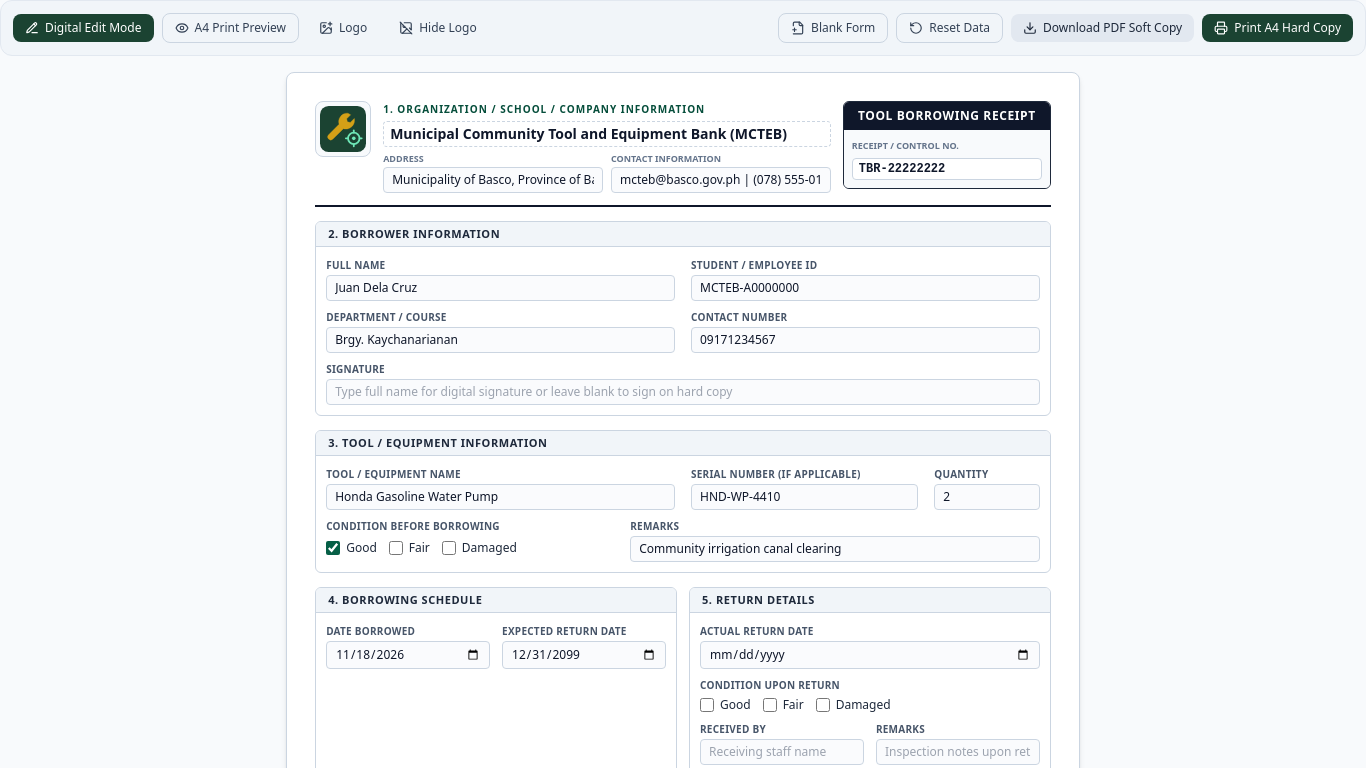
Test: ToolBorrowingReceiptForm › pre-populates from rental data and supports digital editing and blank form reset
Expected: the field labelled "Tool / Equipment Name" holds "Honda Gasoline Water Pump", [326, 484, 675, 510]
Expected: the field labelled "Serial Number (if applicable)" holds "HND-WP-4410", [691, 484, 918, 510]
Edit digitally
Replace the text in the field labelled "Full Name" with "Elena Mendoza" at (501, 288), box [326, 275, 675, 301]
(page scrolled)
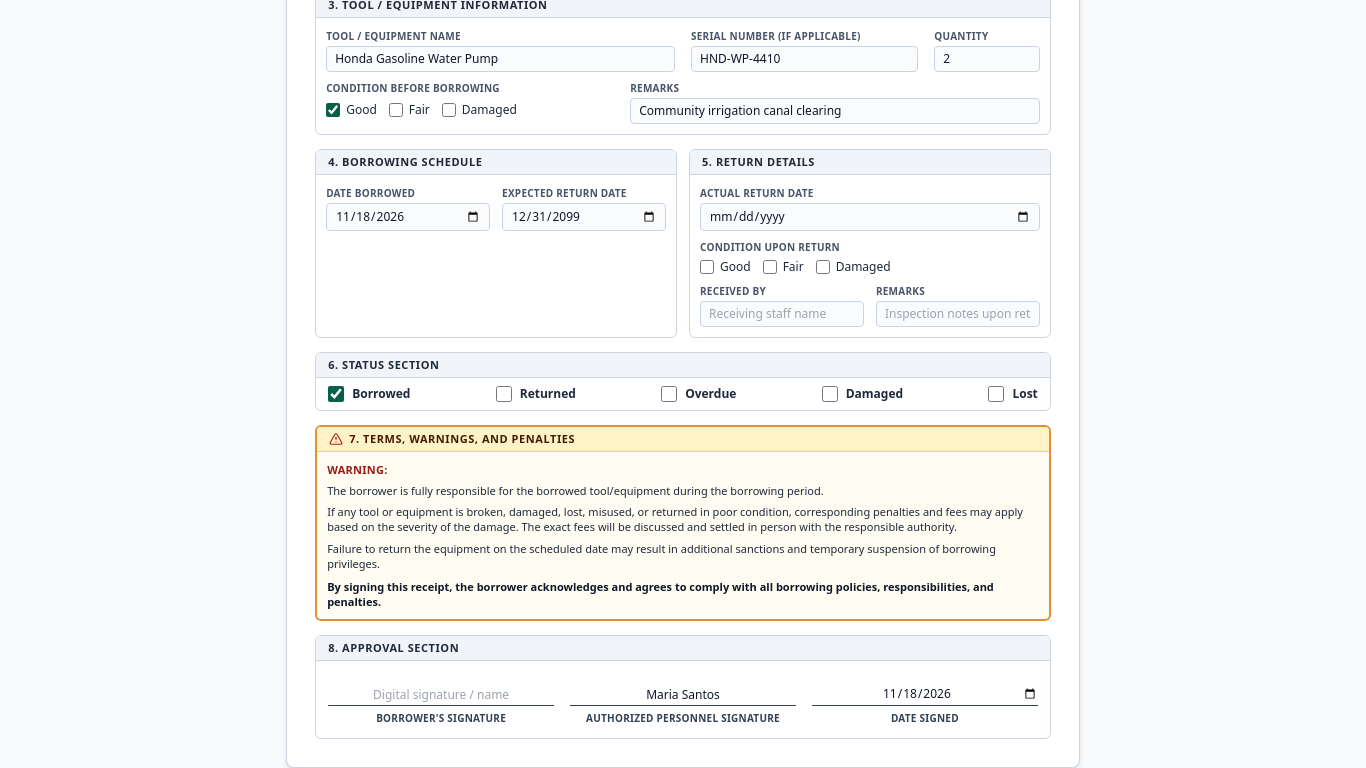
Toggle status checkbox
Click the checkbox labelled "Overdue" at (669, 394), box [661, 386, 677, 402]
(page scrolled)
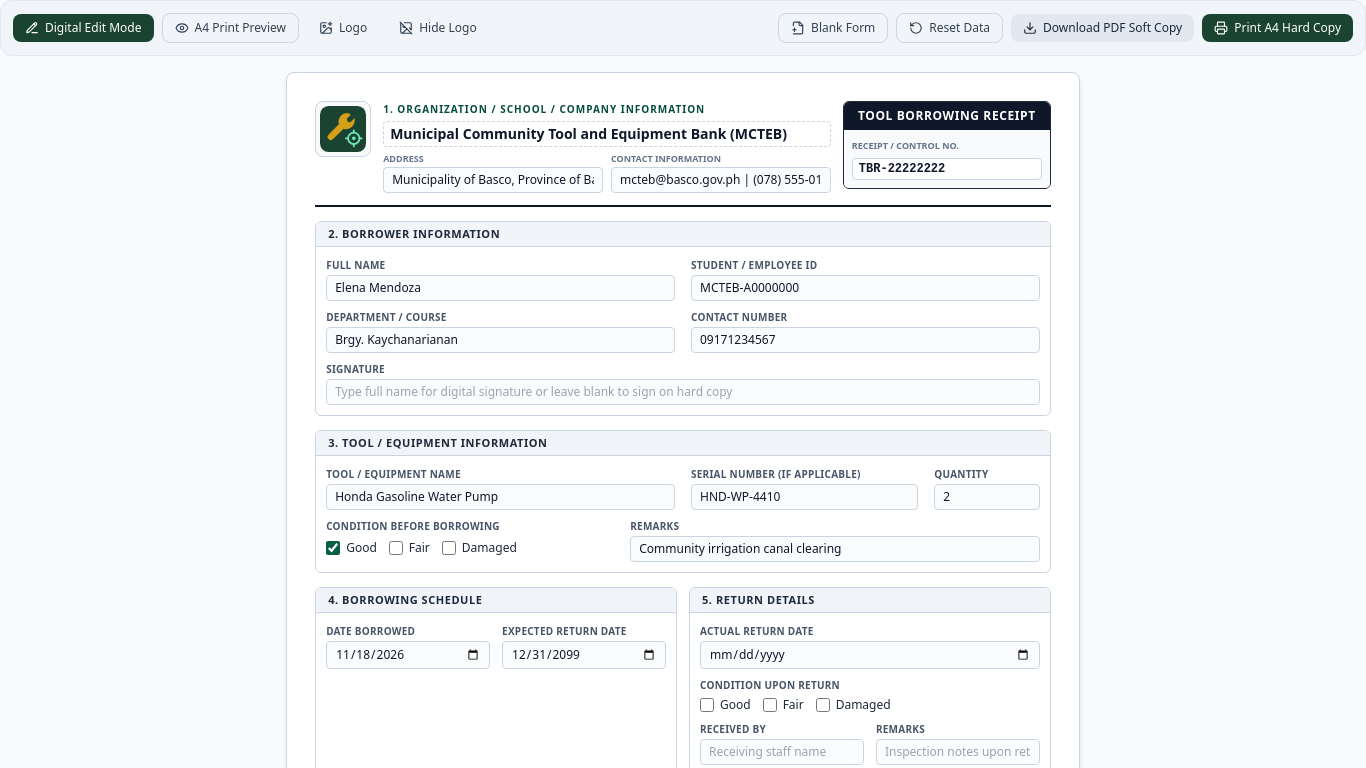
Clear to blank form
Click the button "Blank Form" at (833, 28), box [778, 13, 888, 43]
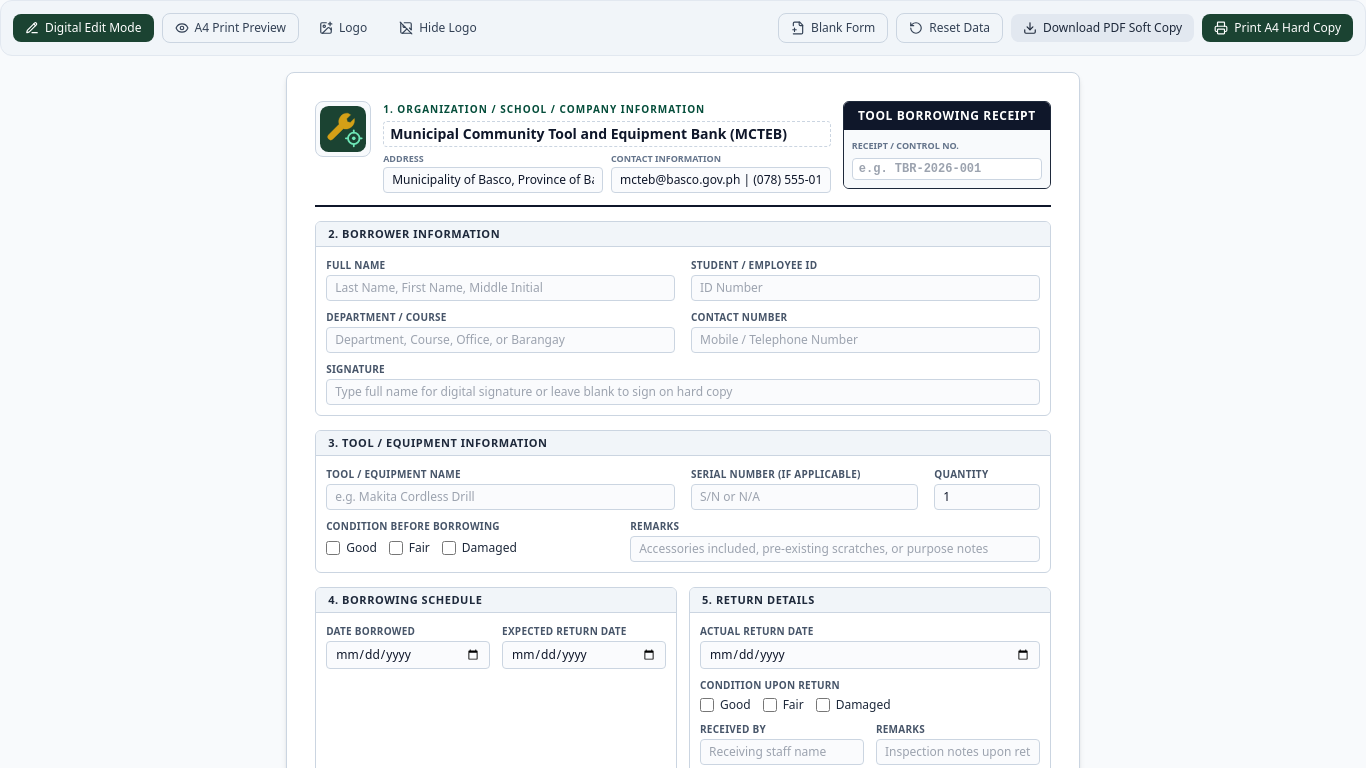
Expected: the field labelled "Full Name" is empty, [326, 275, 675, 301]
Expected: the field labelled "Tool / Equipment Name" is empty, [326, 484, 675, 510]
Restore pre-filled data
Click the button "Reset Data" at (950, 28), box [896, 13, 1003, 43]
(page scrolled)
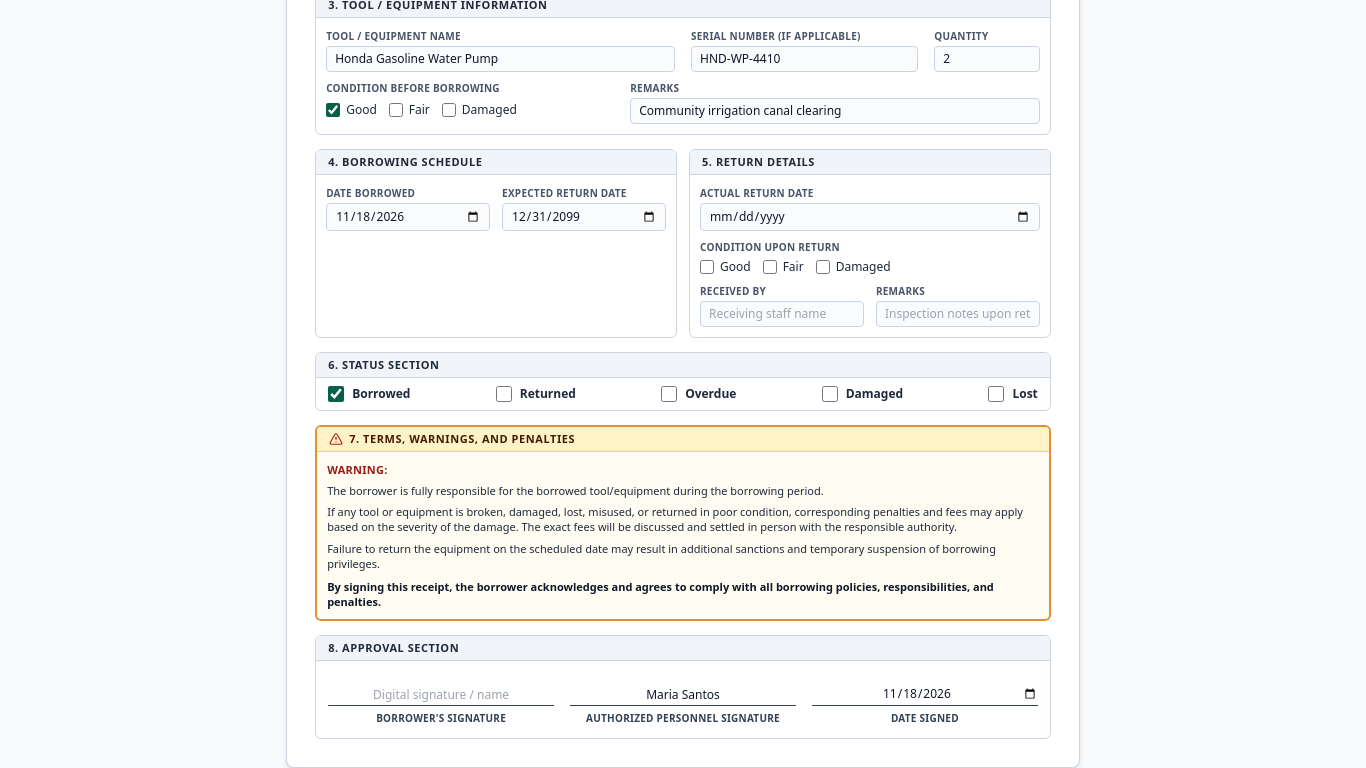
Expected: the checkbox labelled "Borrowed" is checked, [328, 386, 344, 402]
